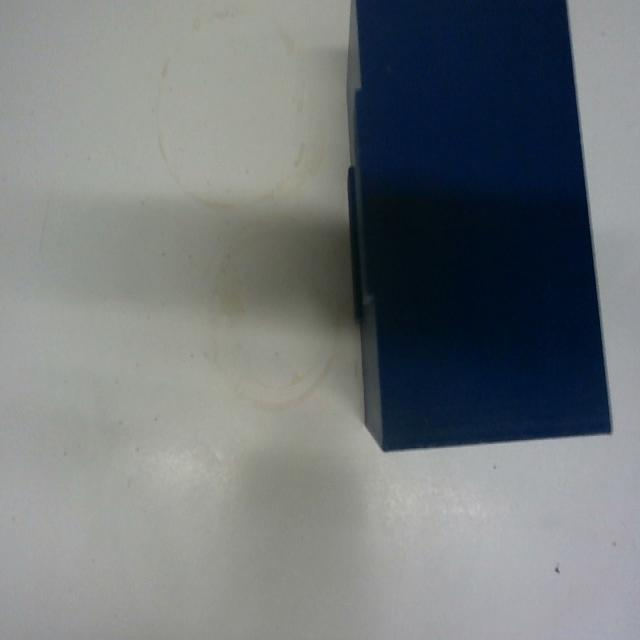Blue Cuboid: (343, 0, 614, 453)
